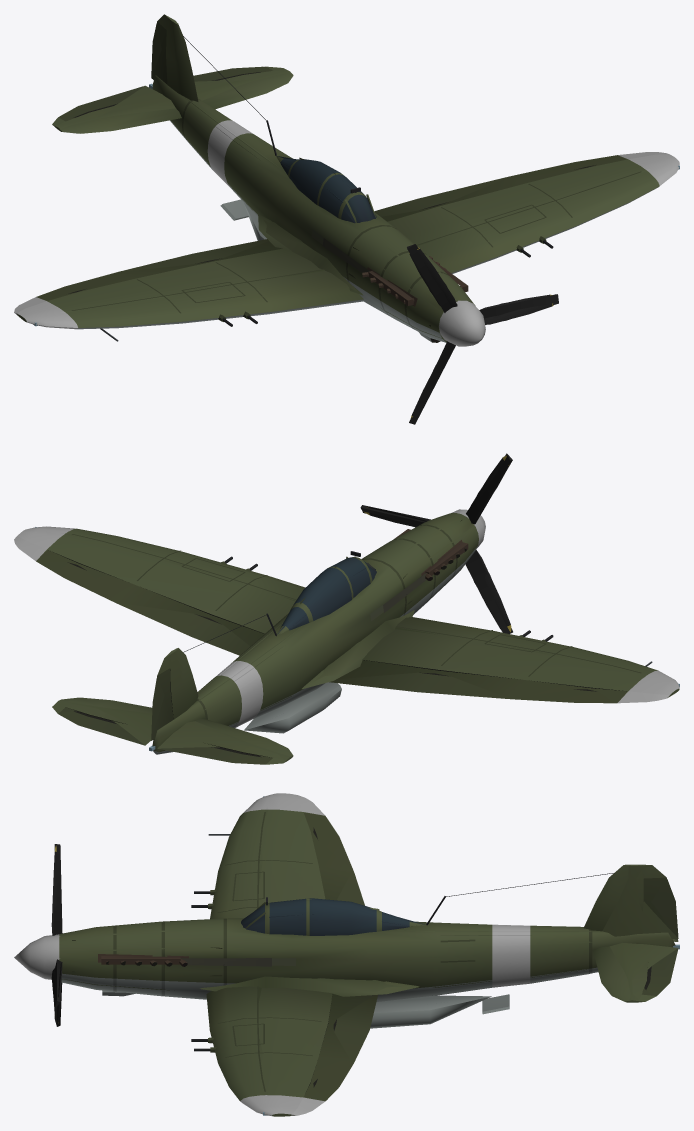
The model's file is plane_ww2_fighter.glb.
3 views of the same model, one above another, from view 1: azimuth 30°, elevation 25°; view 2: azimuth 150°, elevation 25°; view 3: azimuth 270°, elevation 25° (orthographic).
Parts seen in each view (by area): view 1: plane_ww2_fighter_LOD0_mesh, plane_ww2_fighter_LOD1_mesh, plane_ww2_fighter_LOD0_prop_mesh, plane_ww2_fighter_LOD2_mesh, plane_ww2_fighter_LOD2_prop_mesh; view 2: plane_ww2_fighter_LOD0_mesh, plane_ww2_fighter_LOD1_mesh, plane_ww2_fighter_LOD2_mesh, plane_ww2_fighter_LOD2_prop_mesh, plane_ww2_fighter_LOD0_prop_mesh; view 3: plane_ww2_fighter_LOD0_mesh, plane_ww2_fighter_LOD1_mesh, plane_ww2_fighter_LOD2_mesh, plane_ww2_fighter_LOD0_prop_mesh, plane_ww2_fighter_LOD2_prop_mesh.
Part boxes in pixels (x1,y1,x2,y2): plane_ww2_fighter_LOD0_mesh: (14, 19, 679, 342); plane_ww2_fighter_LOD1_mesh: (23, 14, 650, 338); plane_ww2_fighter_LOD0_prop_mesh: (409, 247, 553, 418); plane_ww2_fighter_LOD2_mesh: (18, 16, 627, 320); plane_ww2_fighter_LOD2_prop_mesh: (407, 244, 558, 424); plane_ww2_fighter_LOD0_mesh: (14, 513, 679, 764); plane_ww2_fighter_LOD1_mesh: (36, 513, 673, 764); plane_ww2_fighter_LOD2_mesh: (44, 518, 677, 762); plane_ww2_fighter_LOD2_prop_mesh: (360, 453, 512, 633); plane_ww2_fighter_LOD0_prop_mesh: (363, 455, 511, 632); plane_ww2_fighter_LOD0_mesh: (59, 793, 679, 1116); plane_ww2_fighter_LOD1_mesh: (59, 807, 678, 1115); plane_ww2_fighter_LOD2_mesh: (59, 812, 678, 1115); plane_ww2_fighter_LOD0_prop_mesh: (14, 845, 61, 1023); plane_ww2_fighter_LOD2_prop_mesh: (53, 844, 62, 1026).
Bounding box in the file's own units: 11 × 2.95 × 9.66.
